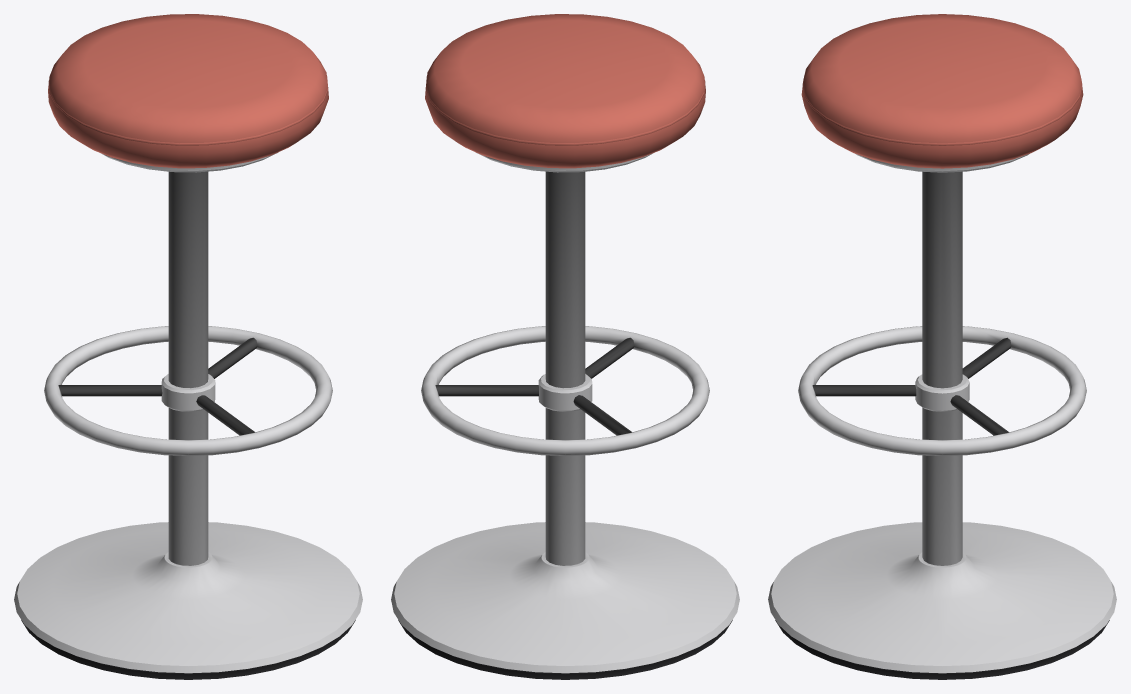
The model's file is junk_stool_tall.glb.
3 renders of one model, left to right at view 1: azimuth 30°, elevation 25°; view 2: azimuth 150°, elevation 25°; view 3: azimuth 270°, elevation 25°, orthographic.
Parts seen in each view (by area): view 1: PART; view 2: PART; view 3: PART.
Part boxes in pixels (x1,y1,x2,y2): PART: (14, 14, 362, 679); PART: (391, 14, 739, 679); PART: (768, 14, 1116, 679).
Bounding box in the file's own units: 0.436 × 0.753 × 0.436.
